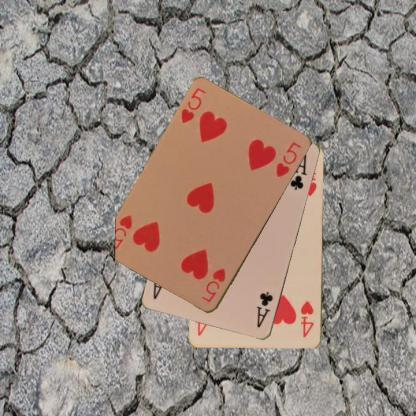4h: (298, 299, 316, 339)
5h: (178, 86, 208, 126), (199, 266, 227, 304)
Ac: (254, 288, 274, 330)
